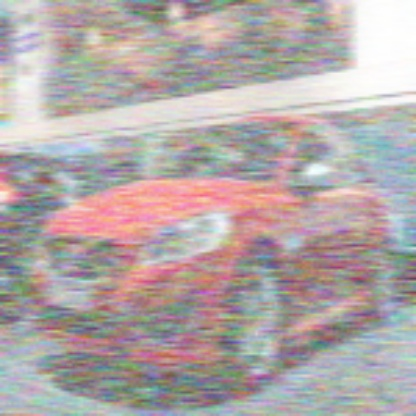Vehicle: (31, 106, 402, 393)
